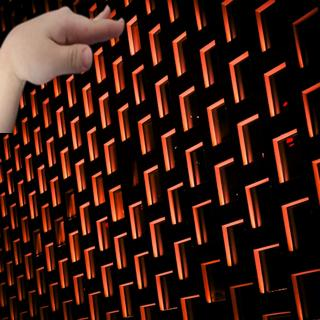Wait: (0, 3, 128, 93)
